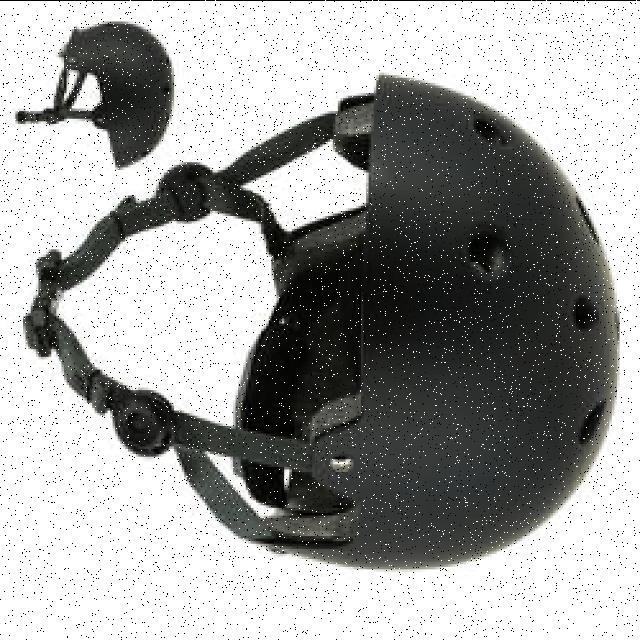Helmet: (26, 75, 616, 565), (17, 24, 170, 166)
